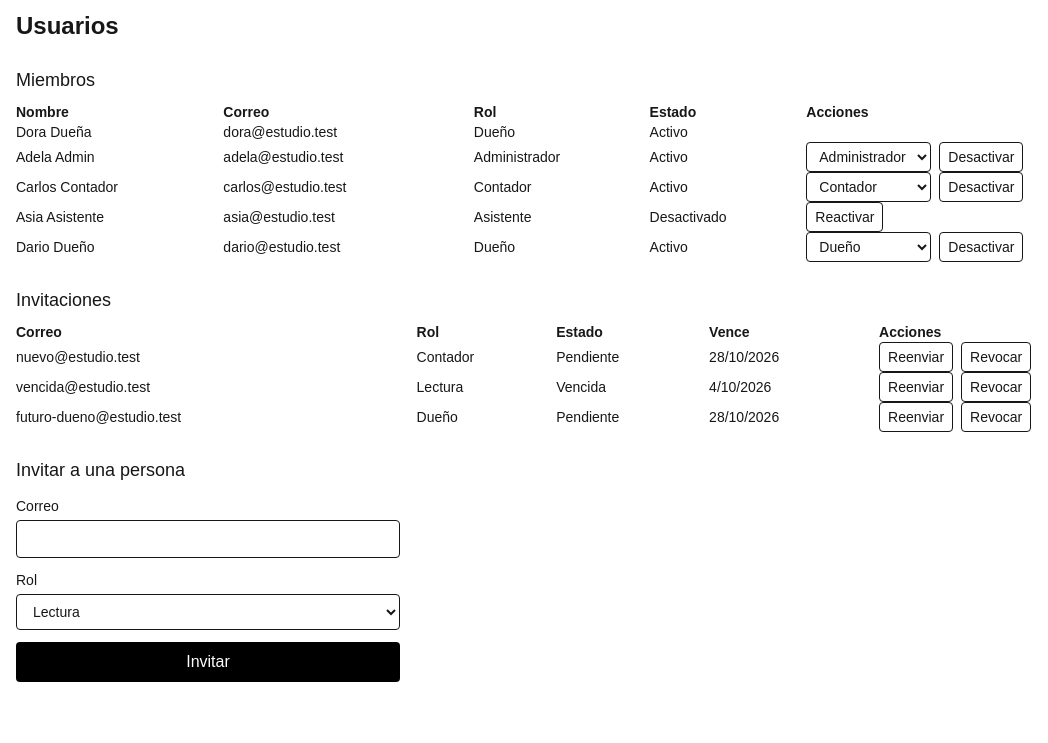
Test: /usuarios › invitar: 409 invitacion_existente → su mensaje
This screenshot has width=1048, height=743.
Step 1. Type "otra@estudio.test" into the field labelled "Correo" → (208, 539), box x1=16 y1=520 x2=400 y2=558
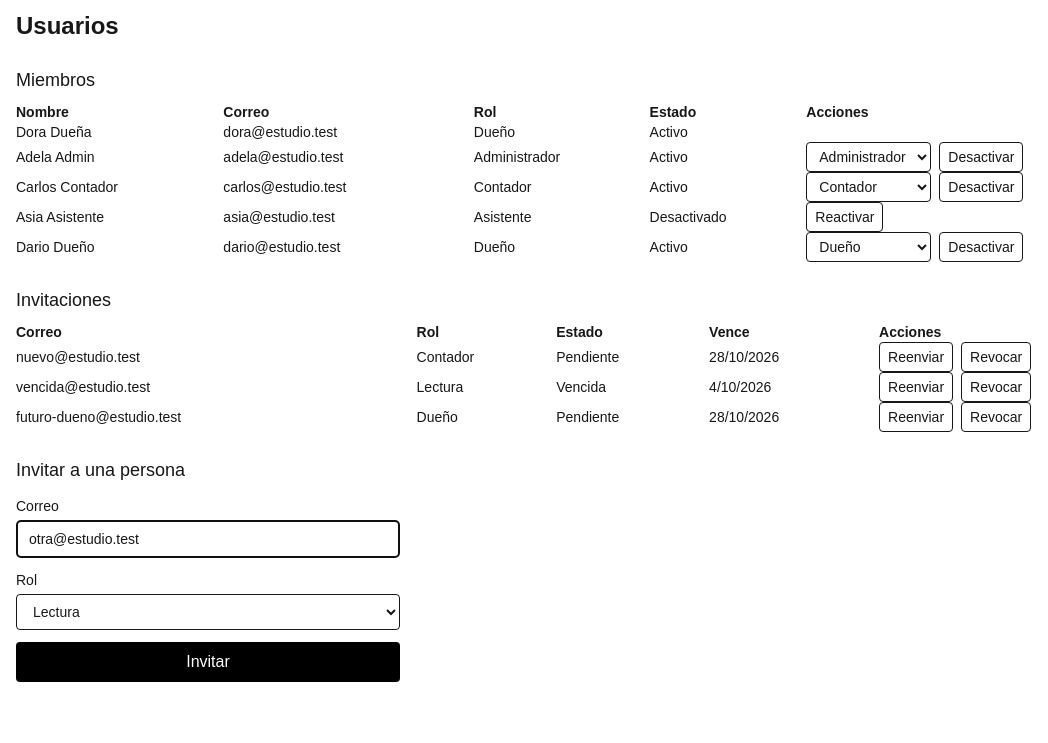
Step 2. Click the button "Invitar" → (208, 662), box x1=16 y1=642 x2=400 y2=682
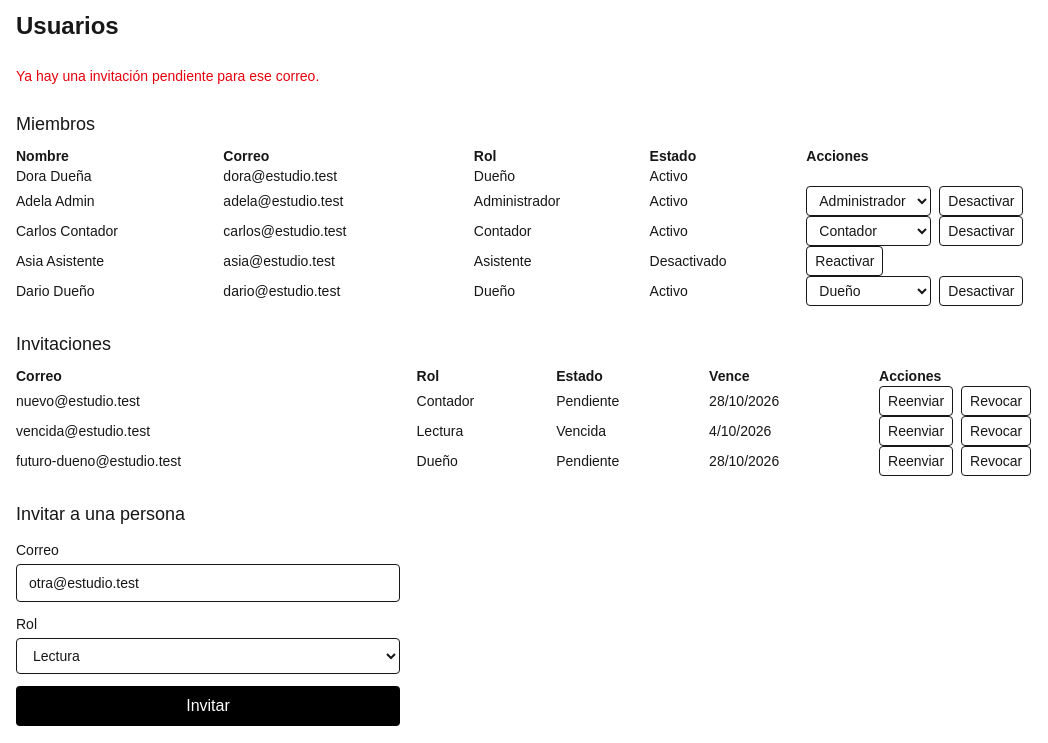
Now the text "Ya hay una invitación pendiente para ese correo." is shown, box x1=16 y1=68 x2=319 y2=84
